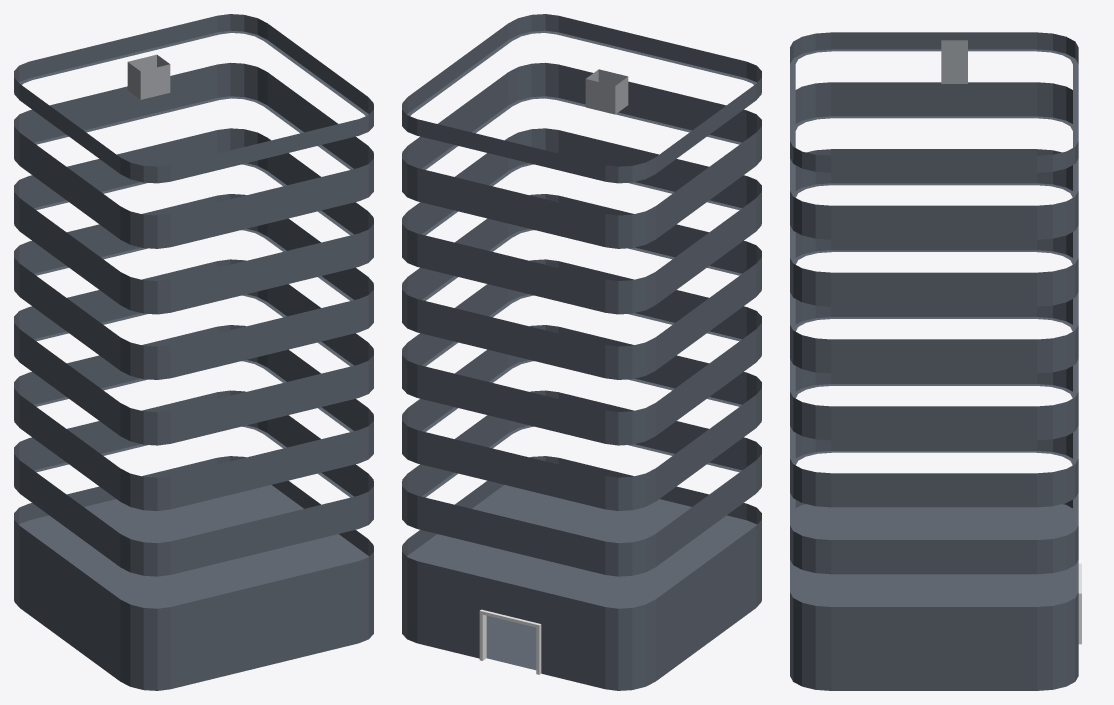
Rendered from Bld_O_high_L4_A.fbx.
The picture shows the model from 3 angles, left to right: view 1: azimuth 30°, elevation 25°; view 2: azimuth 150°, elevation 25°; view 3: azimuth 270°, elevation 25°; orthographic projection. The views are drawn at different scales.
Parts seen in each view (by area): view 1: Bld_O_high_L4_A_LOD0; view 2: Bld_O_high_L4_A_LOD0; view 3: Bld_O_high_L4_A_LOD0.
Boxes of the visible parts, x1,y1,x2,y2 form: Bld_O_high_L4_A_LOD0: (14, 14, 373, 690); Bld_O_high_L4_A_LOD0: (402, 14, 761, 690); Bld_O_high_L4_A_LOD0: (790, 32, 1081, 690).
Size of what is drawn, in the model's own units: 2180 by 4956 by 2313.
Materials: 1 (1 with a texture image).
